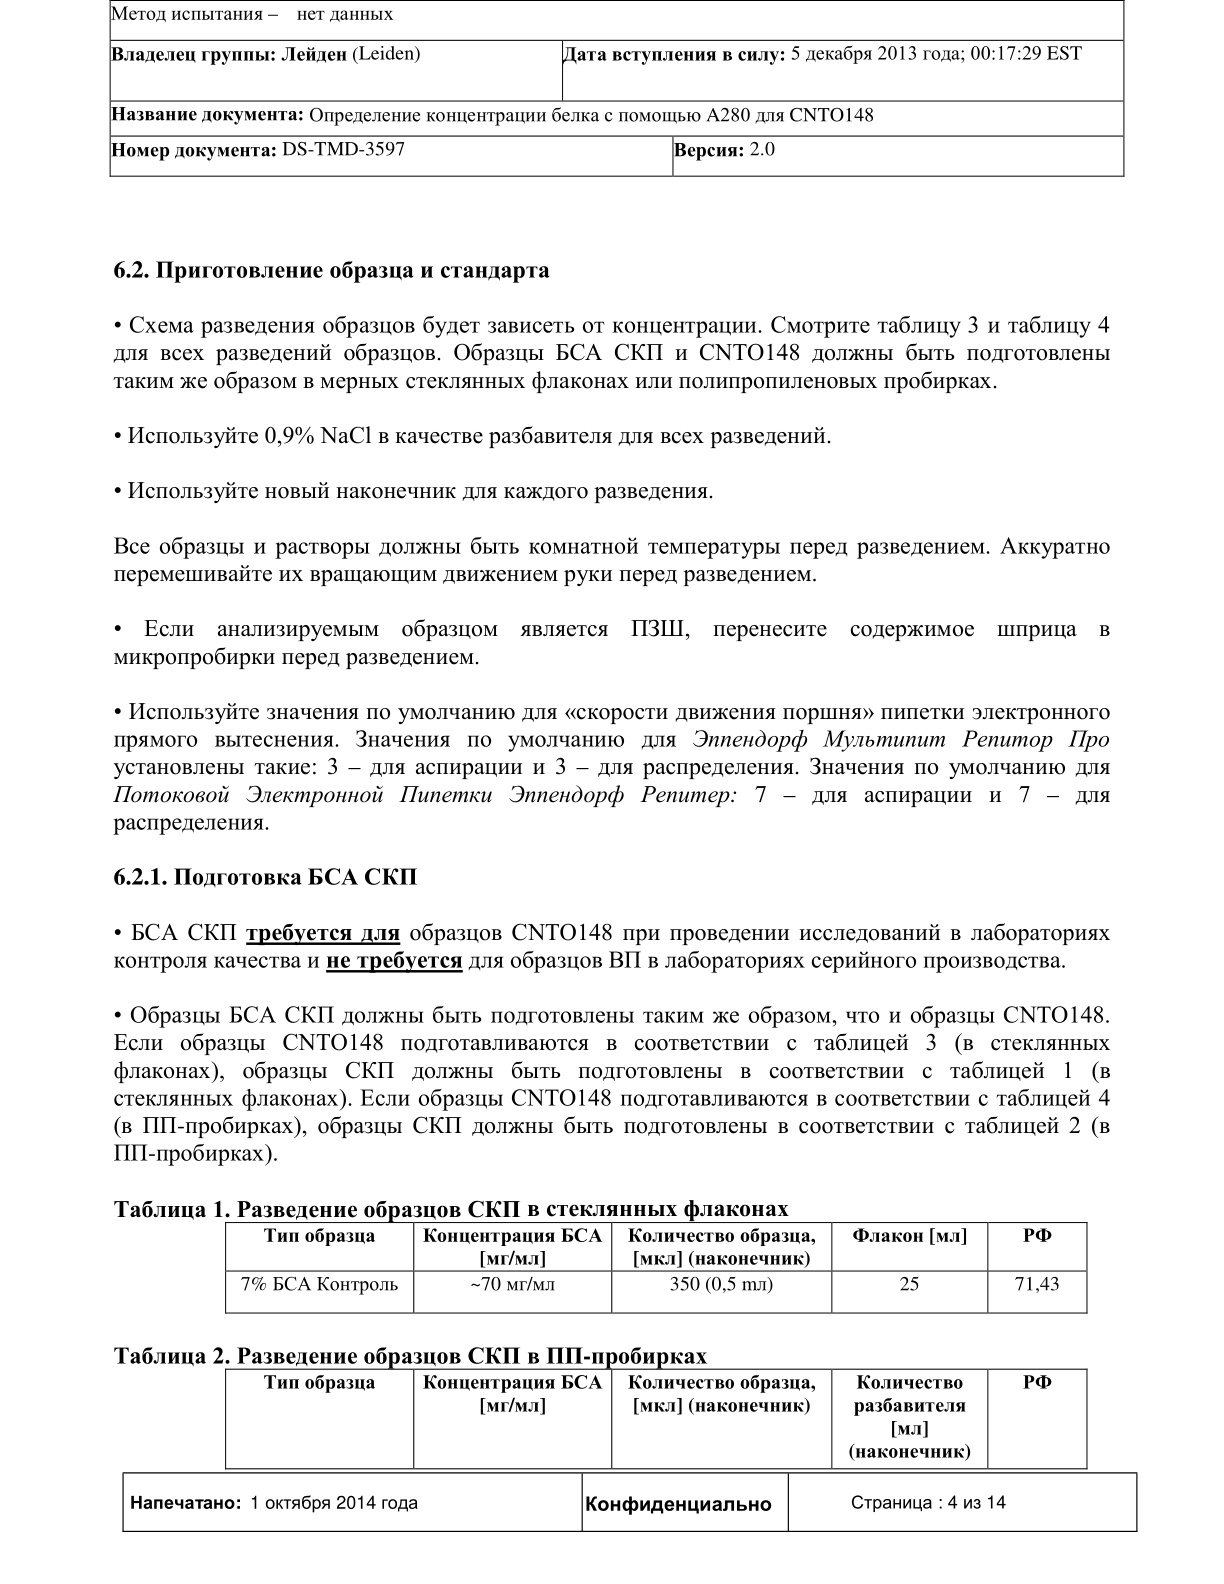full_lined: (224, 1368, 1088, 1470), (222, 1221, 1088, 1315), (121, 1471, 1138, 1533)
merged_cells: (108, 1, 1126, 179)
